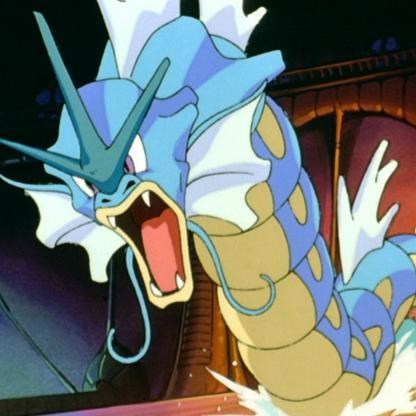Gyarados: (1, 1, 416, 412)
